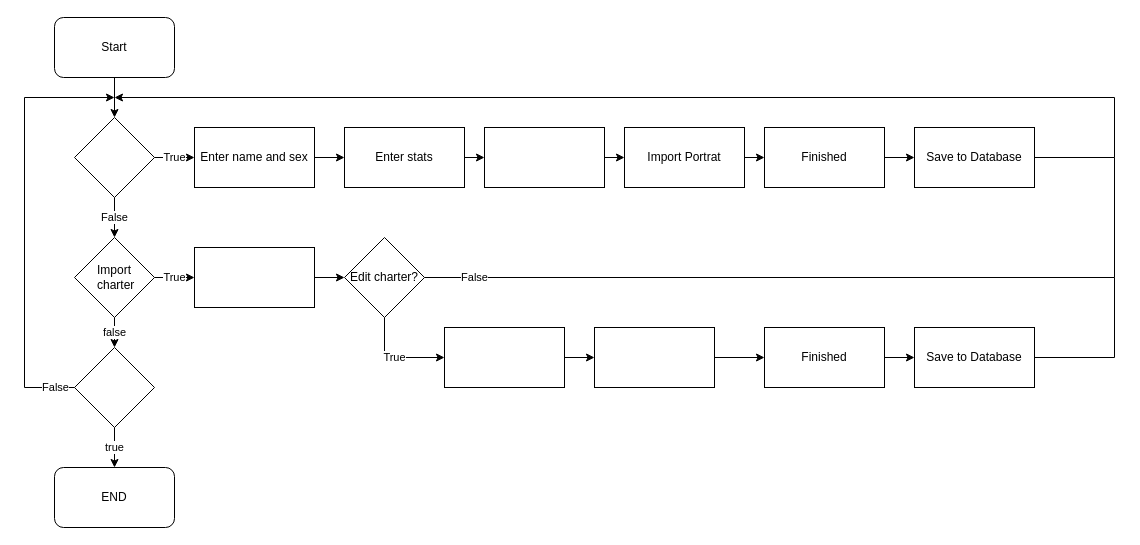
Some shapes in this 1140 by 545 pixel diagram are drawn without their labels. The centre of each missing label's shape, as x and y in pixels:
"Allow usesr to edit" goes at point (654, 357).
"Auto Fill information with charter sheet" goes at point (504, 357).
"Create new Character" goes at point (114, 157).
"Enter Feets" goes at point (544, 157).
"Exit" goes at point (114, 387).
"Import charter from database" goes at point (254, 277).
